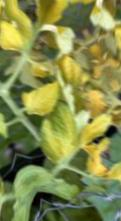Tomato leaf yellow virus: (19, 88, 94, 172), (22, 145, 92, 221), (77, 128, 121, 213), (0, 7, 44, 65)
